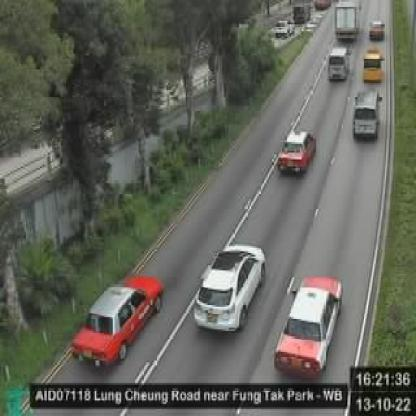Car: (68, 274, 166, 370), (274, 274, 344, 382), (193, 242, 268, 335), (276, 128, 319, 176), (352, 89, 382, 142), (326, 45, 352, 82), (361, 48, 386, 84), (368, 16, 385, 41)
Truck: (333, 0, 362, 46)
